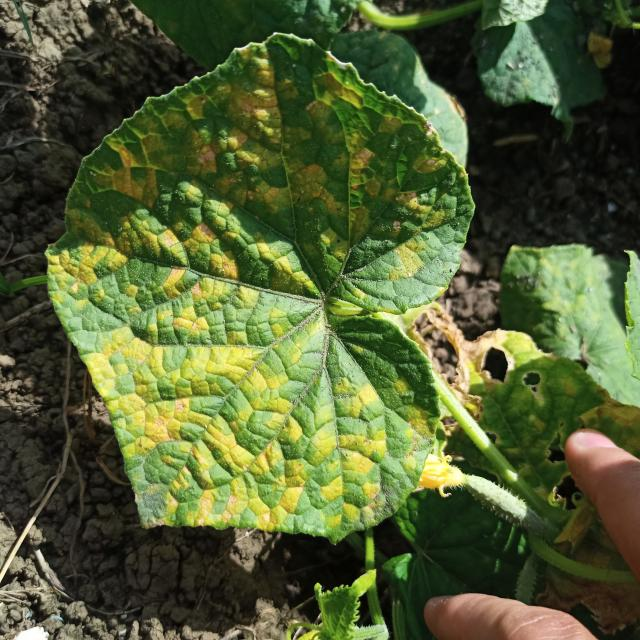disease_cucumber: (47, 49, 453, 534)
